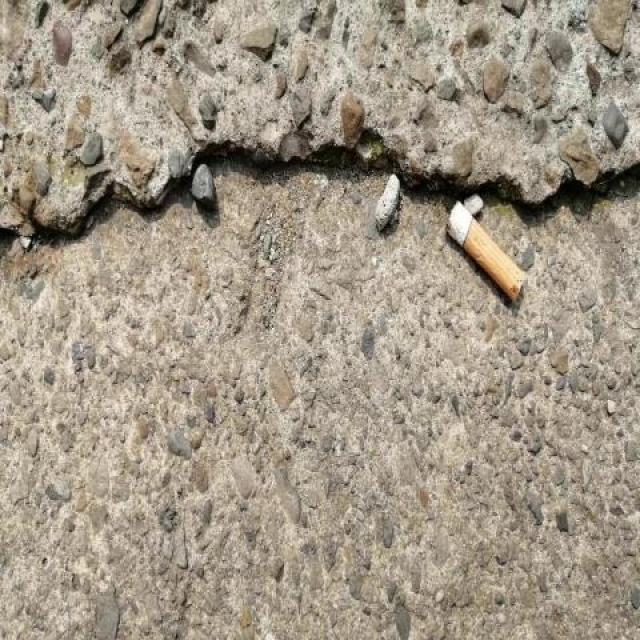non-organic waste: (442, 196, 529, 308)
